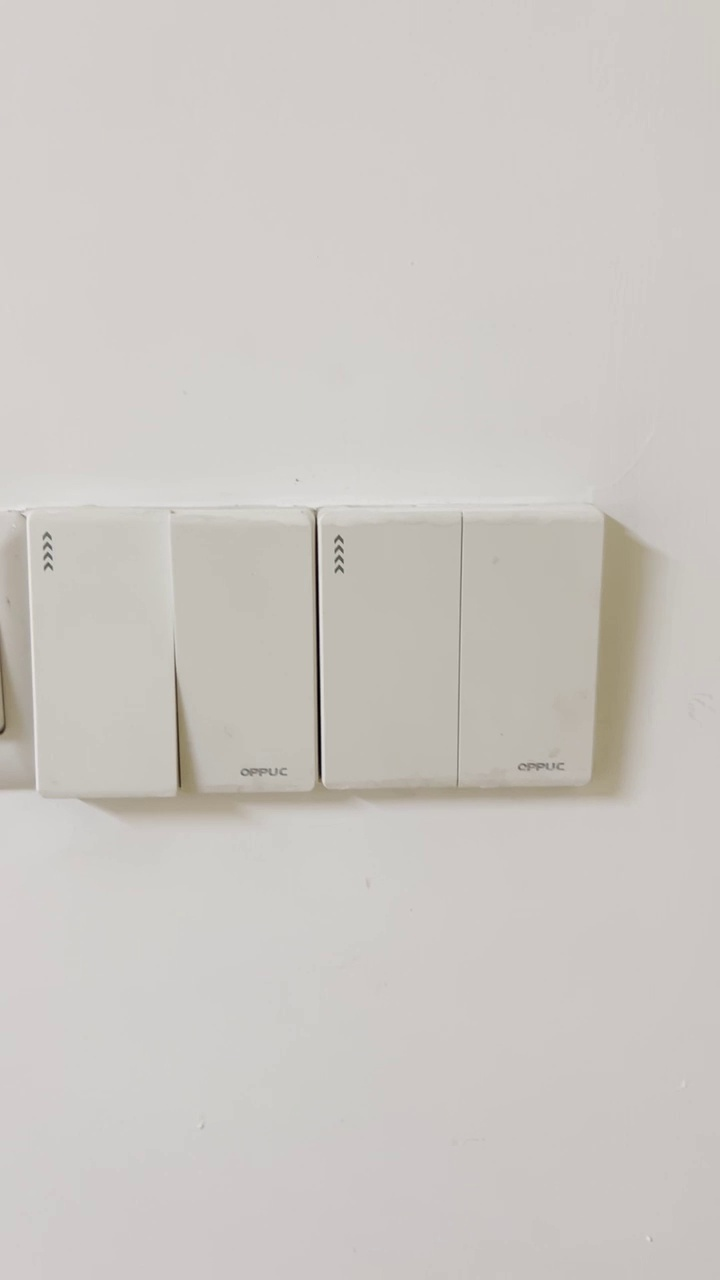button1: (30, 512, 174, 789), (178, 515, 315, 789), (462, 515, 597, 789), (327, 512, 454, 782)
